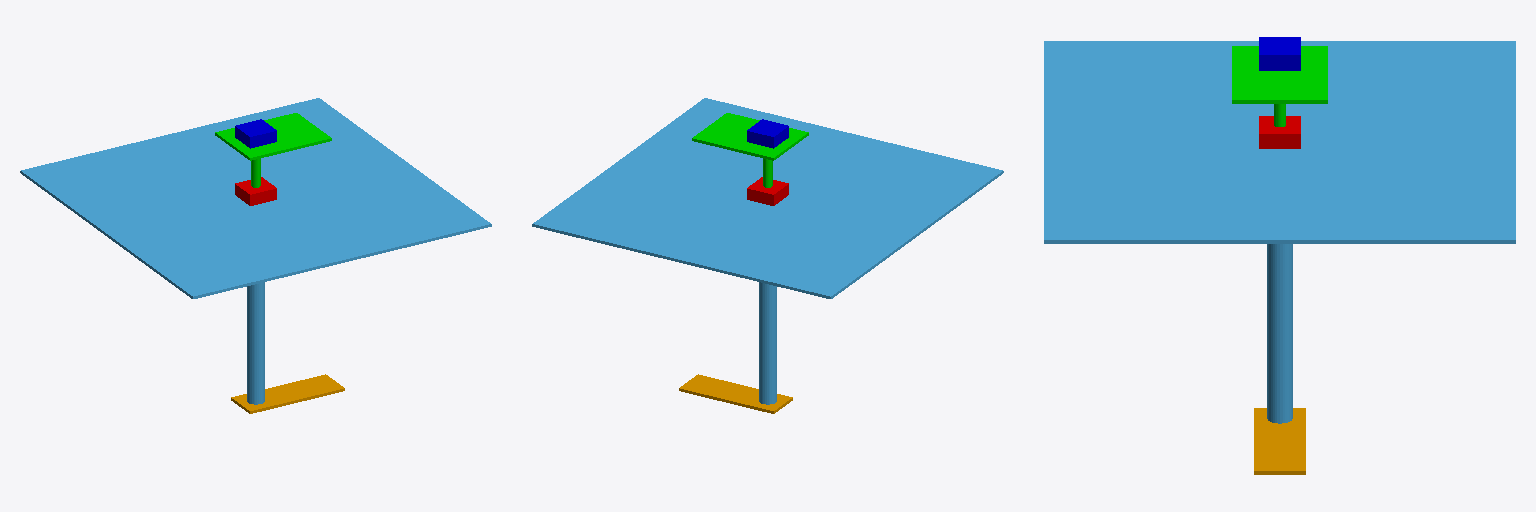
The robot description file, URDF, robot "DoubleTableCart":
<?xml version="1.0" encoding="utf-8"?>
<!-- =================================================================================== -->
<!-- |    This document was autogenerated by xacro from double_table_cart.urdf.xacro   | -->
<!-- |    EDITING THIS FILE BY HAND IS NOT RECOMMENDED                                 | -->
<!-- =================================================================================== -->
<robot name="DoubleTableCart" xmlns:xacro="http://www.ros.org/wiki/xacro">
  <!-- Table -->
  <link name="Foot">
    <visual>
      <geometry>
        <box size="0.35 0.122 0.01"/>
      </geometry>
      <origin rpy="0.0 0.0 0.0" xyz="0.118 0.0 0.005"/>
    </visual>
    <collision>
      <geometry>
        <sphere radius="0.005"/>
      </geometry>
      <origin rpy="0.0 0.0 0.0" xyz="-0.0285 -0.061 0.005"/>
    </collision>
    <collision>
      <geometry>
        <sphere radius="0.005"/>
      </geometry>
      <origin rpy="0.0 0.0 0.0" xyz="0.1465 -0.061 0.005"/>
    </collision>
    <collision>
      <geometry>
        <sphere radius="0.005"/>
      </geometry>
      <origin rpy="0.0 0.0 0.0" xyz="-0.0285 0.061 0.005"/>
    </collision>
    <collision>
      <geometry>
        <sphere radius="0.005"/>
      </geometry>
      <origin rpy="0.0 0.0 0.0" xyz="0.1465 0.061 0.005"/>
    </collision>
    <inertial>
      <mass value="0.0"/>
      <inertia ixx="0.0" ixy="0.0" ixz="0.0" iyy="0.0" iyz="0.0" izz="0.0"/>
      <origin rpy="0.0 0.0 0.0" xyz="0.0 0.0 0.0"/>
    </inertial>
  </link>
  <link name="TableTop">
    <visual>
      <geometry>
        <box size="1.10 1.10 0.01"/>
      </geometry>
      <origin rpy="0.0 0.0 0.0" xyz="0.0 0.0 0.721"/>
    </visual>
    <visual>
      <geometry>
        <cylinder length="0.706" radius="0.03"/>
      </geometry>
      <origin rpy="0.0 0.0 0.0" xyz="0.0 0.0 0.363"/>
    </visual>
    <inertial>
      <!-- Minimal inertia for the table to avoid numerical instabilities -->
      <mass value="1e-1"/>
      <inertia ixx="1.0e-4" ixy="1.0e-4" ixz="1.0e-4" iyy="1.0e-4" iyz="1.0e-4" izz="1.0e-4"/>
      <origin rpy="0.0 0.0 0.0" xyz="0.0 0.0 0.0"/>
    </inertial>
  </link>
  <joint name="FootTable" type="fixed">
    <origin rpy="0.0 0.0 0.0" xyz="0.0 0.0 0.0"/>
    <parent link="Foot"/>
    <child link="TableTop"/>
  </joint>
  <!-- Robot -->
  <link name="RobotCart">
    <visual>
      <geometry>
        <box size="0.10 0.10 0.04"/>
      </geometry>
      <material name="red">
        <color rgba="0.9 0.0 0.0 1"/>
      </material>
      <origin rpy="0.0 0.0 0.0" xyz="0.0 0.0 0.025"/>
    </visual>
    <inertial>
      <mass value="74.8"/>
      <inertia ixx="13.257" ixy="0.064" ixz="1.283" iyy="11.849" iyz="-0.095" izz="3.343"/>
      <origin rpy="0.0 0.0 0.0" xyz="0.0 0.0 0.0"/>
    </inertial>
  </link>
  <joint name="RobotStrapsToPatient" type="fixed">
    <origin rpy="0.0 0.0 0.0" xyz="0.004 0.0 0.0"/>
    <parent link="RobotCart"/>
    <child link="RobotStraps"/>
  </joint>
  <link name="RobotStraps"/>
  <link name="RobotPlanarJoint"/>
  <joint name="TableTopToRobotCartX" type="prismatic">
    <origin rpy="0.0 0.0 0.0" xyz="0.0 0.0 0.721"/>
    <axis xyz="1 0 0"/>
    <parent link="TableTop"/>
    <child link="RobotPlanarJoint"/>
    <limit effort="2680.0" lower="-0.5" upper="0.5" velocity="2.23"/>
  </joint>
  <joint name="TableTopToRobotCartY" type="prismatic">
    <origin rpy="0.0 0.0 0.0" xyz="0.0 0.0 0.0"/>
    <axis xyz="0 1 0"/>
    <parent link="RobotPlanarJoint"/>
    <child link="RobotCart"/>
    <limit effort="1640.0" lower="-0.5" upper="0.5" velocity="0.79"/>
  </joint>
  <!-- Patient lower body -->
  <link name="PatientLowerBodyCart">
    <visual>
      <geometry>
        <box size="0.10 0.10 0.04"/>
      </geometry>
      <material name="green">
        <color rgba="0.0 0.9 0.0 1"/>
      </material>
      <origin rpy="0.0 0.0 0.0" xyz="0.0 0.0 0.025"/>
    </visual>
    <visual>
      <geometry>
        <cylinder length="0.158" radius="0.015"/>
      </geometry>
      <material name="green">
        <color rgba="0.0 0.9 0.0 1"/>
      </material>
      <origin rpy="0.0 0.0 0.0" xyz="0.0 0.0 0.1215"/>
    </visual>
    <visual>
      <geometry>
        <box size="0.301 0.224 0.01"/>
      </geometry>
      <material name="green">
        <color rgba="0.0 0.9 0.0 1"/>
      </material>
      <origin rpy="0.0 0.0 0.0" xyz="0.0645 0.0 0.203"/>
    </visual>
    <inertial>
      <mass value="32.6"/>
      <inertia ixx="3.57" ixy="0.0" ixz="0.11" iyy="3.345" iyz="0.0" izz="0.328"/>
      <origin rpy="0.0 0.0 0.0" xyz="0.0 0.0 0.0"/>
    </inertial>
  </link>
  <link name="PatientLowerBodyPlanarJoint"/>
  <joint name="TableTopToPatientLowerBodyCartX" type="prismatic">
    <origin rpy="0.0 0.0 0.0" xyz="0.0 0.0 0.721"/>
    <axis xyz="1 0 0"/>
    <parent link="TableTop"/>
    <child link="PatientLowerBodyPlanarJoint"/>
    <limit effort="1000.0" lower="-0.5" upper="0.5" velocity="100.0"/>
  </joint>
  <joint name="TableTopToPatientLowerBodyCartY" type="prismatic">
    <origin rpy="0.0 0.0 0.0" xyz="0.0 0.0 0.0"/>
    <axis xyz="0 1 0"/>
    <parent link="PatientLowerBodyPlanarJoint"/>
    <child link="PatientLowerBodyCart"/>
    <limit effort="1000.0" lower="-0.5" upper="0.5" velocity="100.0"/>
  </joint>
  <!-- Patient upper body -->
  <link name="PatientUpperBodyCart">
    <visual>
      <geometry>
        <box size="0.10 0.10 0.04"/>
      </geometry>
      <material name="blue">
        <color rgba="0.0 0.0 0.9 1"/>
      </material>
      <origin rpy="0.0 0.0 0.0" xyz="0.0 0.0 0.025"/>
    </visual>
    <inertial>
      <mass value="42.8"/>
      <inertia ixx="3.418" ixy="0.0" ixz="-0.003" iyy="0.886" iyz="0.0" izz="2.651"/>
      <origin rpy="0.0 0.0 0.0" xyz="0.0 0.0 0.0"/>
    </inertial>
  </link>
  <link name="PatientUpperBodyPlanarJoint"/>
  <joint name="PatientLowerBodyToPatientUpperBodyCartX" type="prismatic">
    <origin rpy="0.0 0.0 0.0" xyz="0.0 0.0 0.203"/>
    <axis xyz="1 0 0"/>
    <parent link="PatientLowerBodyCart"/>
    <child link="PatientUpperBodyPlanarJoint"/>
    <limit effort="200.0" lower="-0.036" upper="0.165" velocity="3.0"/>
  </joint>
  <joint name="PatientLowerBodyToPatientUpperBodyCartY" type="prismatic">
    <origin rpy="0.0 0.0 0.0" xyz="0.0 0.0 0.0"/>
    <axis xyz="0 1 0"/>
    <parent link="PatientUpperBodyPlanarJoint"/>
    <child link="PatientUpperBodyCart"/>
    <limit effort="300.0" lower="-0.062" upper="0.062" velocity="1.0"/>
  </joint>
</robot>

--- What the picture shows (computed from the rendered views, not written in the file) ---
3 views of the same robot in one strip: view 1: azimuth 30°, elevation 25°; view 2: azimuth 150°, elevation 25°; view 3: azimuth 270°, elevation 25° (orthographic).
Robot: DoubleTableCart — 9 links, 8 joints (6 prismatic, 2 fixed); root link Foot; default pose: every joint at zero.
Visible links, largest first — view 1: TableTop, PatientLowerBodyCart, Foot, PatientUpperBodyCart, RobotCart; view 2: TableTop, PatientLowerBodyCart, Foot, PatientUpperBodyCart, RobotCart; view 3: TableTop, PatientLowerBodyCart, Foot, PatientUpperBodyCart, RobotCart.
Boxes of the visible links, x1,y1,x2,y2 form: TableTop: (20,98,491,404); PatientLowerBodyCart: (215,113,331,187); Foot: (231,374,344,413); PatientUpperBodyCart: (235,119,276,148); RobotCart: (235,177,276,205); TableTop: (532,98,1003,404); PatientLowerBodyCart: (692,113,808,187); Foot: (679,374,792,413); PatientUpperBodyCart: (747,119,788,148); RobotCart: (747,177,788,205); TableTop: (1044,41,1515,423); PatientLowerBodyCart: (1232,46,1327,126); Foot: (1254,408,1305,474); PatientUpperBodyCart: (1259,37,1300,70); RobotCart: (1259,116,1300,148).
Size in the robot's own frame: 1.1 by 1.1 by 0.969 metres.
Geometry: primitives only (box / cylinder / sphere), no mesh files.